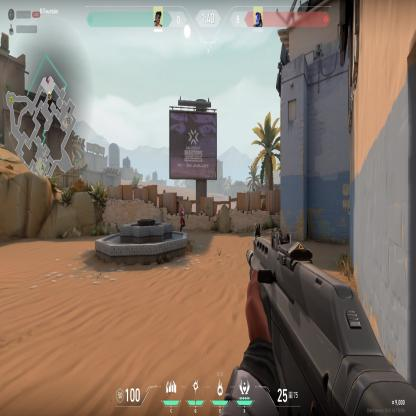enemy: (178, 204, 186, 232)
